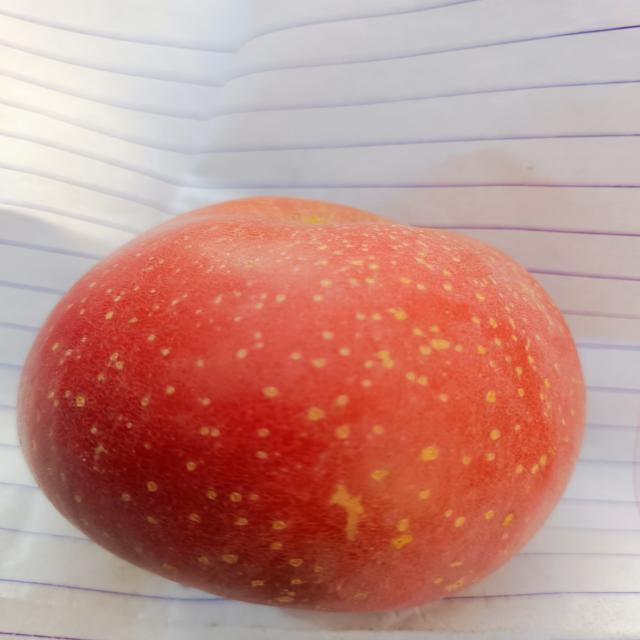Fresh Apple: (11, 193, 590, 623)
